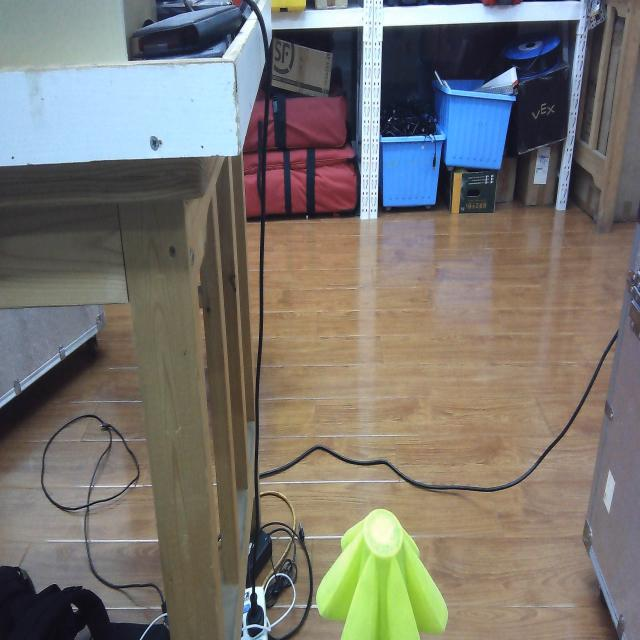Yellow-Stake-Head: (316, 508, 448, 640)
